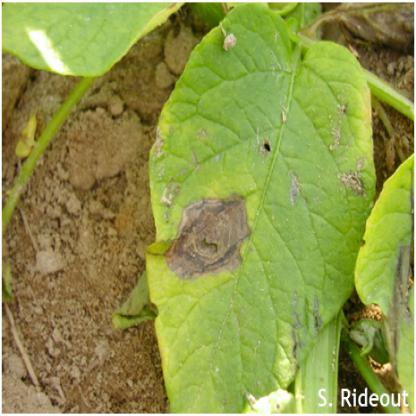potato leaf early blight: (146, 1, 380, 415)
